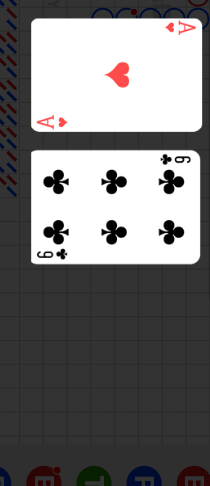6C: (35, 247, 70, 261)
AH: (35, 113, 70, 129)
